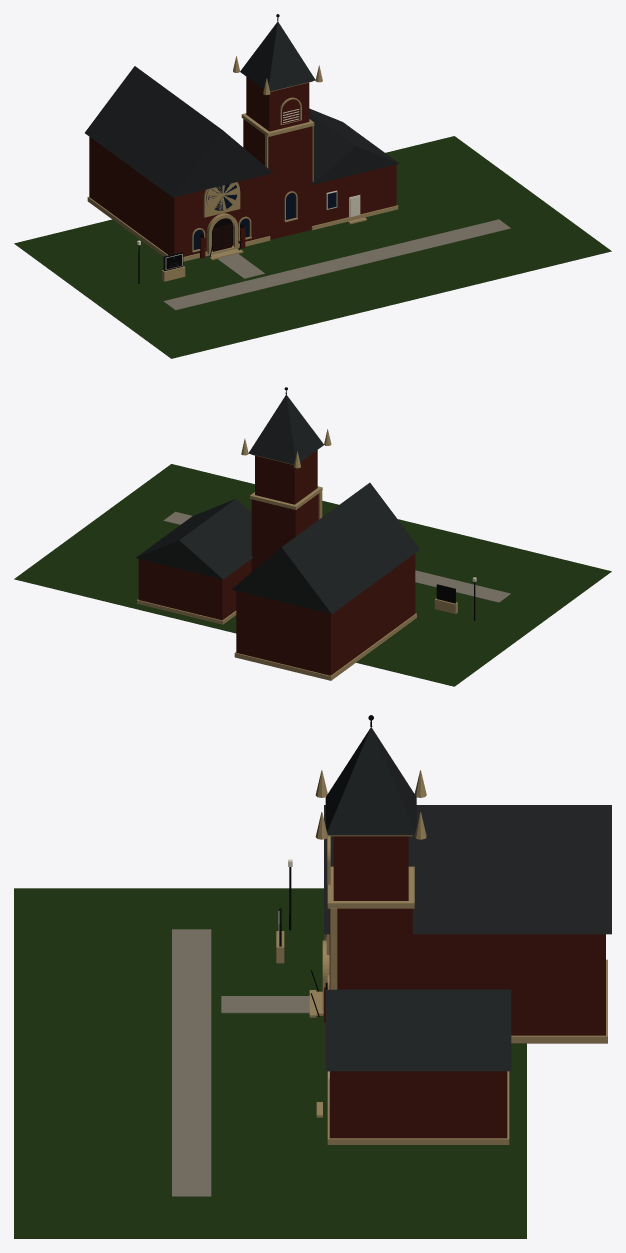
File: RossvilleMethodistChurch.obj
3 views of the same model, one above another, from view 1: azimuth 30°, elevation 25°; view 2: azimuth 150°, elevation 25°; view 3: azimuth 270°, elevation 25° (orthographic). The views are drawn at different scales.
Parts seen in each view (by area): view 1: RossvilleMethodistChurch; view 2: RossvilleMethodistChurch; view 3: RossvilleMethodistChurch.
Part boxes in pixels (box(x1,y1,x2,y2)): RossvilleMethodistChurch: box(14, 14, 611, 358); RossvilleMethodistChurch: box(14, 387, 611, 686); RossvilleMethodistChurch: box(14, 715, 611, 1238).
Size of the model in its own units: 42 by 19.51 by 30.3.
Materials: 13 (1 with a texture image).
